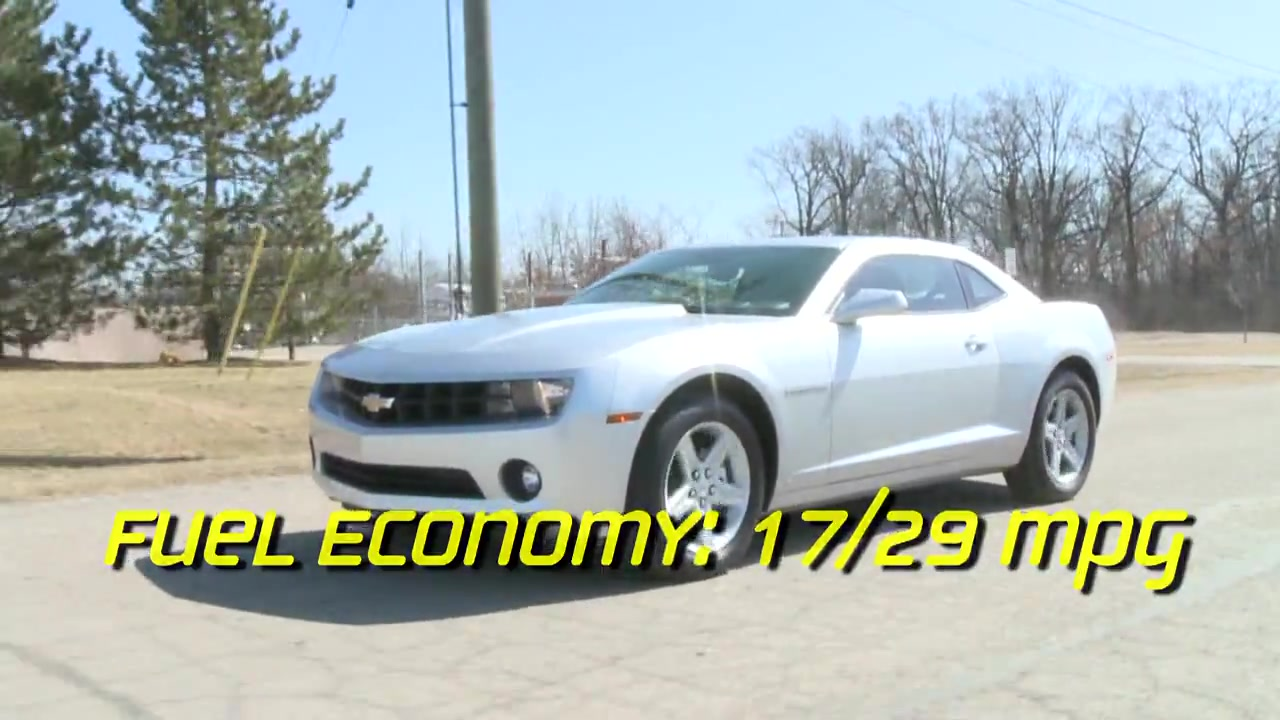car: (304, 235, 1118, 571)
